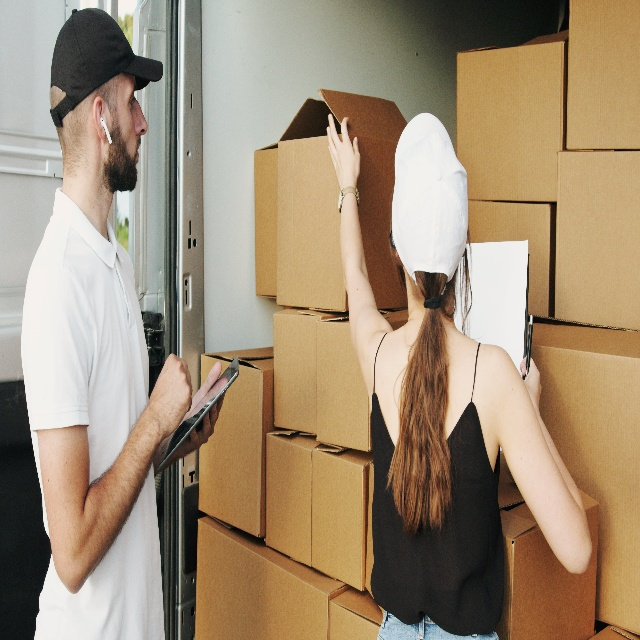Sin_guantes: (181, 360, 227, 457), (150, 353, 193, 439), (326, 112, 361, 184), (520, 355, 542, 412)
